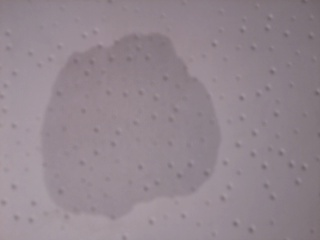Water_detected: (60, 53, 194, 193)
